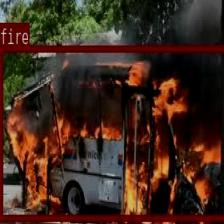fire: (0, 45, 224, 221)
